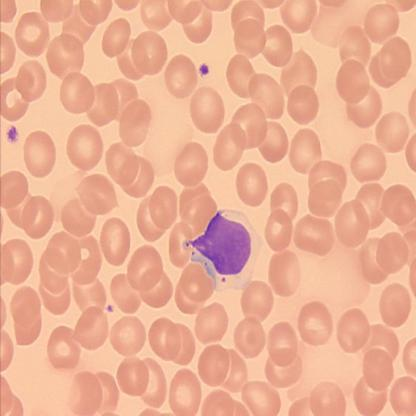Atypical lymphocyte: (185, 208, 263, 287)
